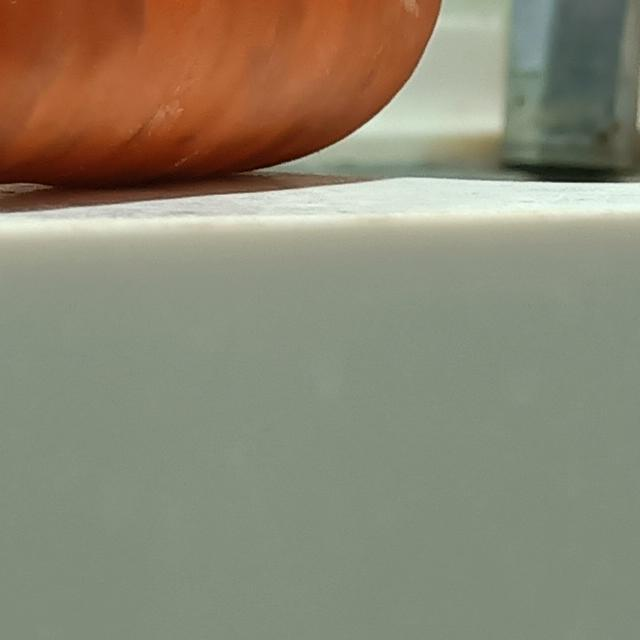carrot: (1, 1, 460, 191)
